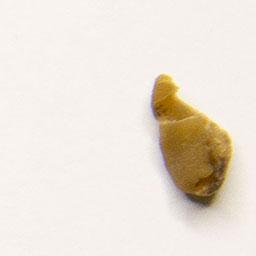defect: (147, 70, 236, 204)
